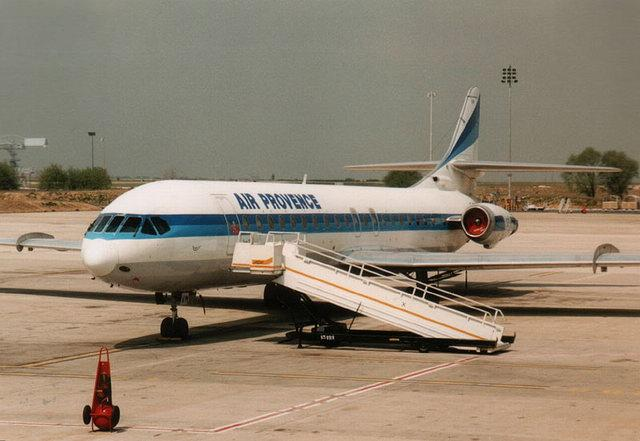airplane: (1, 87, 640, 350)
